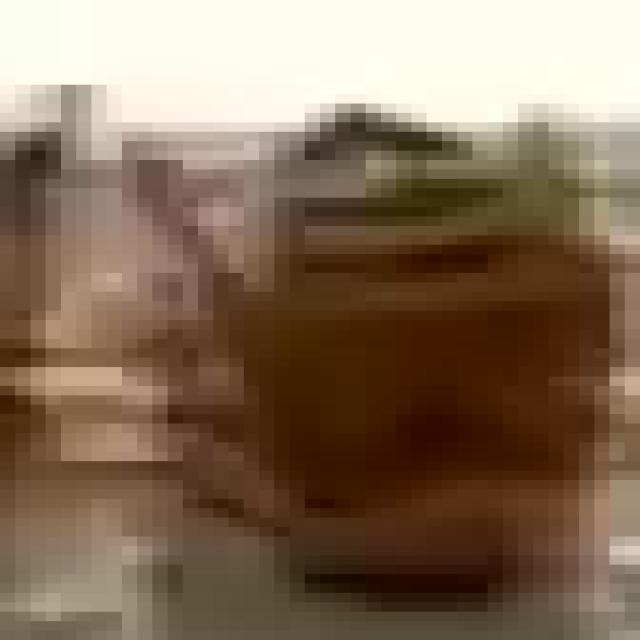honeybee: (174, 92, 613, 637)
